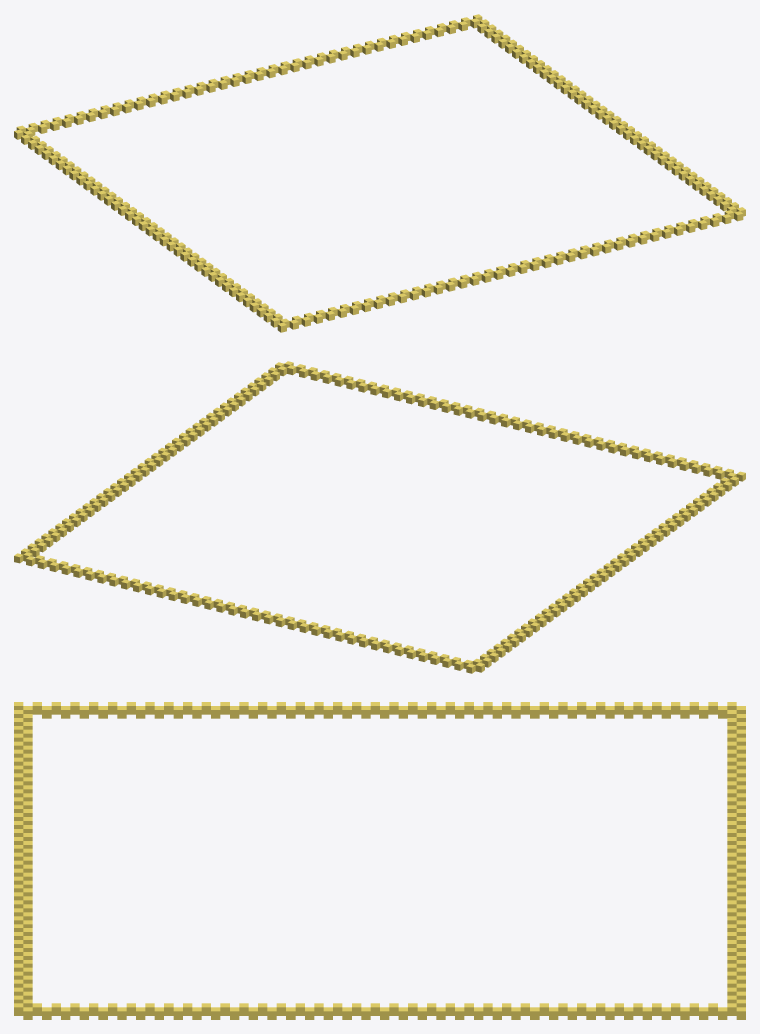
Rendered from beach_3_overtile.obj.
3 renders of one model, top to bottom at view 1: azimuth 30°, elevation 25°; view 2: azimuth 150°, elevation 25°; view 3: azimuth 270°, elevation 25°, orthographic. The views are drawn at different scales.
Bounding box in the file's own units: 7.8 × 0.1 × 7.8.
Materials: 1 (1 with a texture image).
